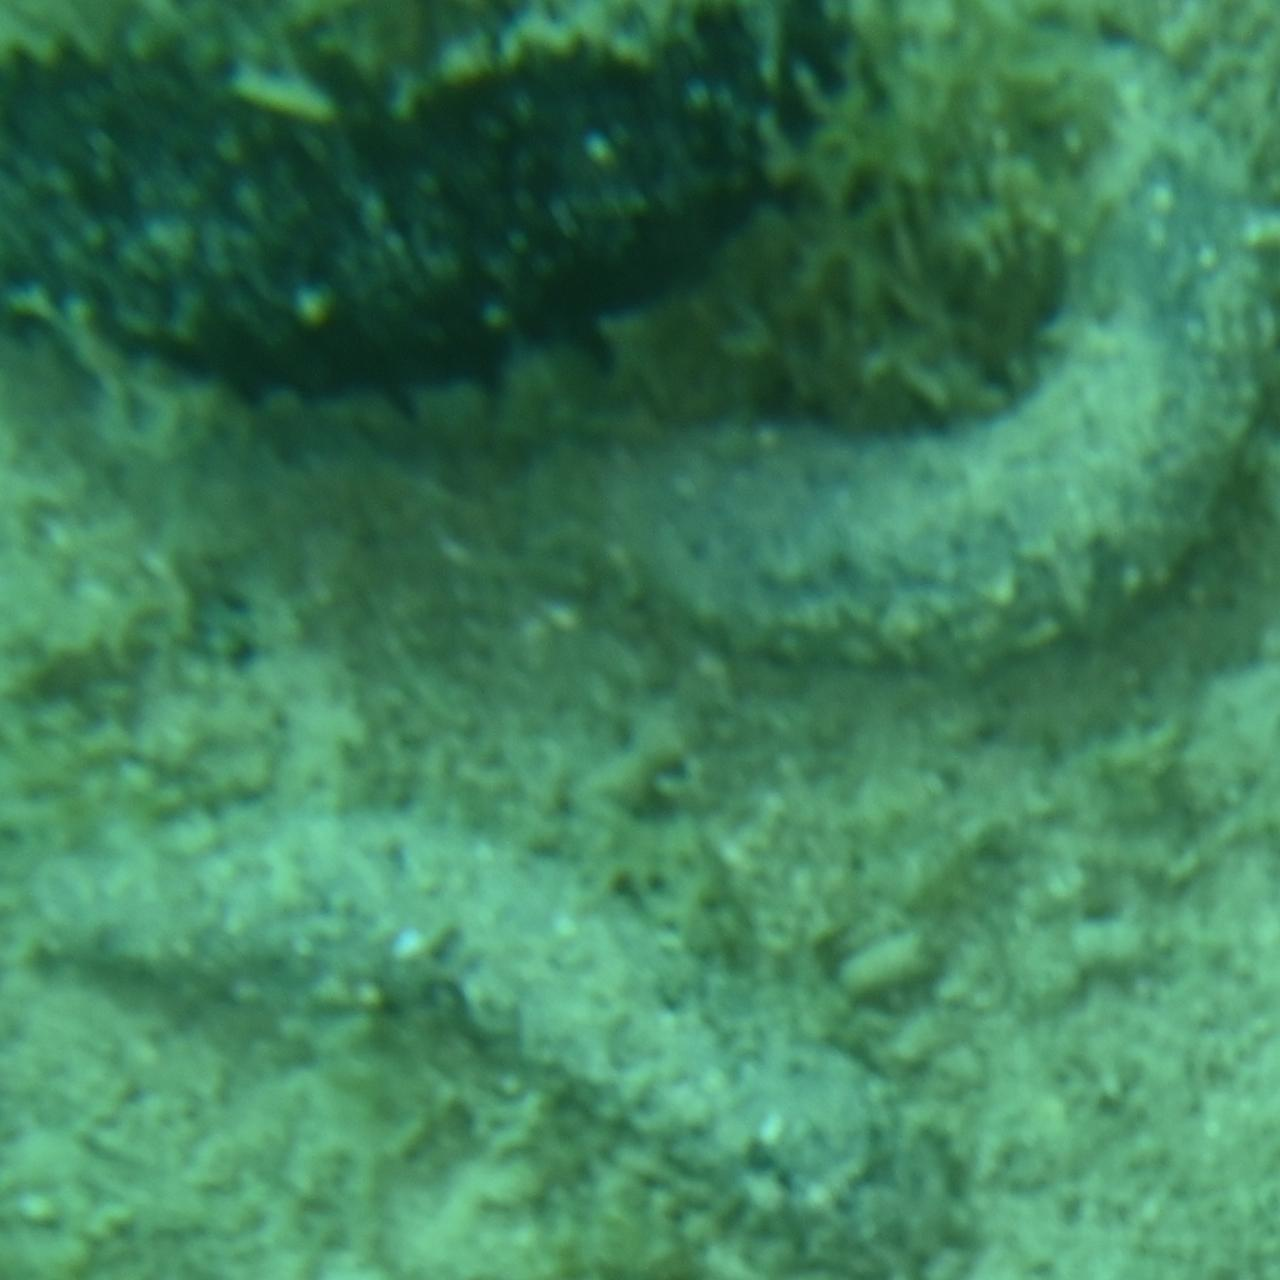Holothuria tubulosa: (28, 789, 987, 1280), (558, 20, 1271, 670), (0, 2, 892, 429)
